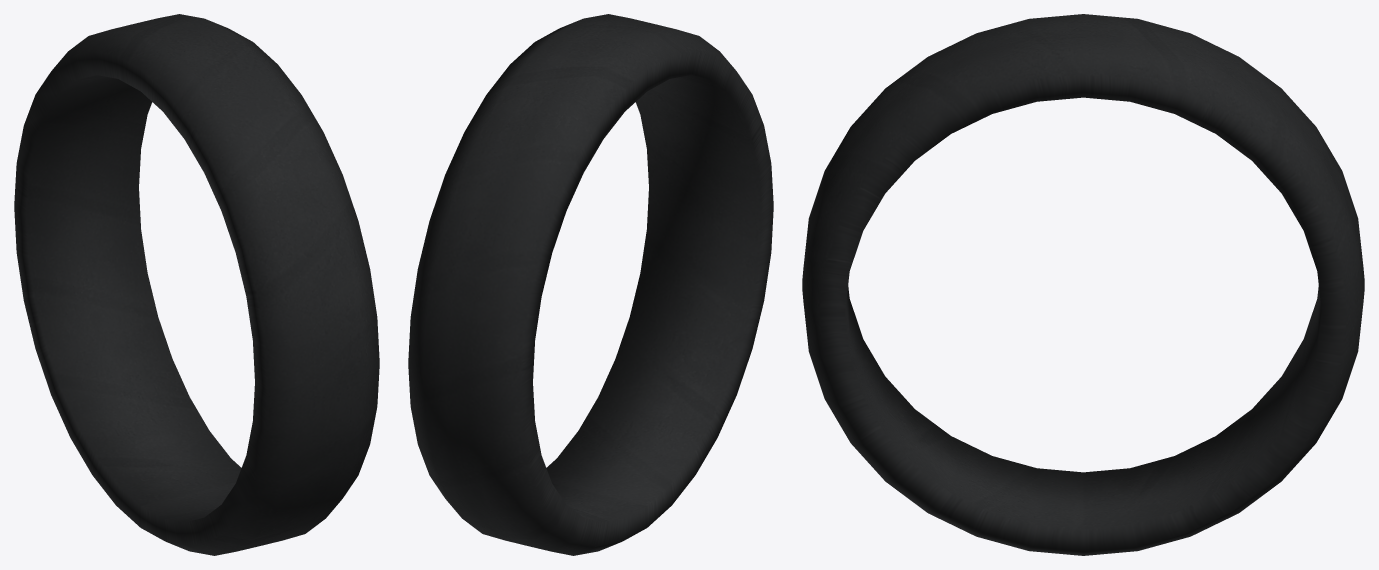
File: Tyre.fbx
The picture shows the model from 3 angles, left to right: view 1: azimuth 30°, elevation 25°; view 2: azimuth 150°, elevation 25°; view 3: azimuth 270°, elevation 25°; orthographic projection. The views are drawn at different scales.
Visible parts, largest first — view 1: Tyre; view 2: Tyre; view 3: Tyre.
Part boxes in pixels (x1,y1,x2,y2): Tyre: (14,14,379,555); Tyre: (408,14,773,555); Tyre: (802,14,1364,555).
Size of what is drawn, in the model's own units: 0.5669 by 2.35 by 2.35.
Materials: 1 (1 with a texture image).
